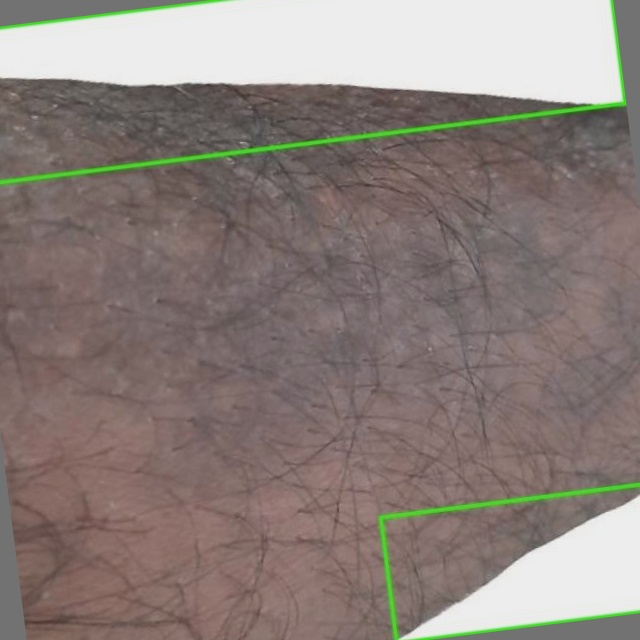Contact Dermatitis: (0, 0, 625, 182), (380, 484, 639, 639)
